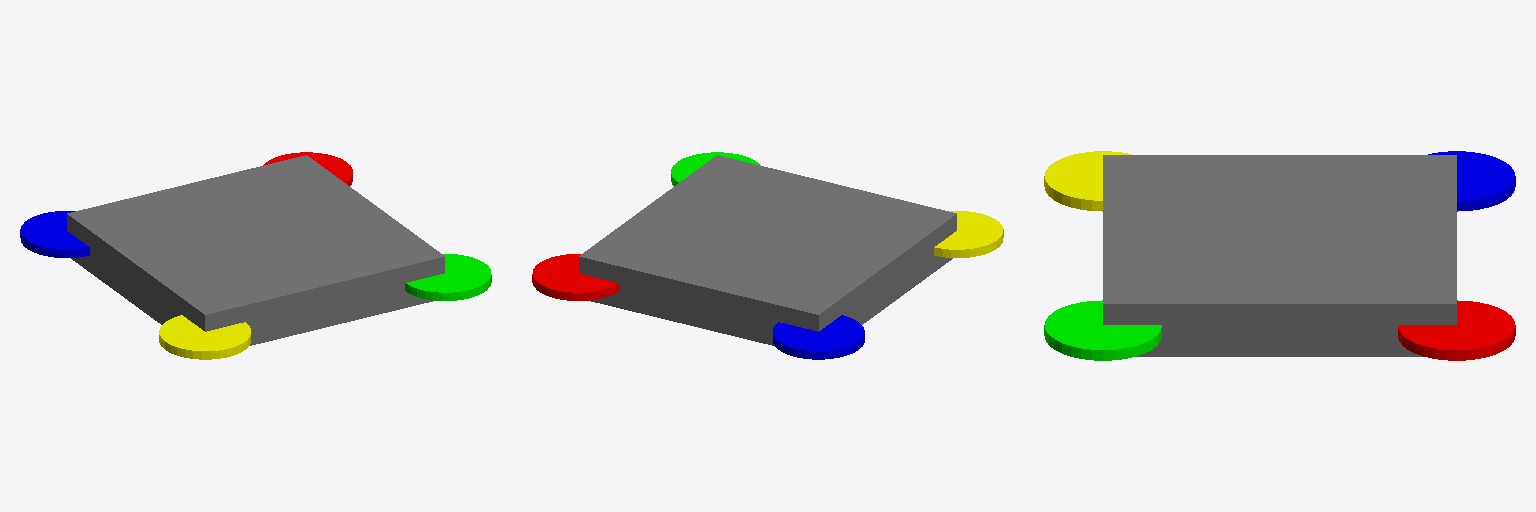
The robot description file, URDF, robot "simple_quadrotor":
<?xml version="1.0" ?>
<robot name="simple_quadrotor">

    <!-- Base link of the quadrotor -->
    <link name="base_link">
        <inertial>
            <origin xyz="0 0 0" />
            <mass value="1.0" />
            <inertia ixx="0.01" iyy="0.01" izz="0.02" ixy="0" ixz="0" iyz="0" />
        </inertial>

        <visual>
            <origin xyz="0 0 0" rpy="0 0 0"/>
            <geometry>
                <box size="0.3 0.3 0.05"/>
            </geometry>
            <material name="gray">
                <color rgba="0.5 0.5 0.5 1"/>
            </material>
        </visual>

        <collision>
            <origin xyz="0 0 0"/>
            <geometry>
                <box size="0.3 0.3 0.05"/>
            </geometry>
        </collision>
    </link>

    <!-- Four propeller links (no motors; visual only) -->
    <link name="prop_front_left">
        <visual>
            <origin xyz="0.15 0.15 0"/>
            <geometry>
                <cylinder radius="0.05" length="0.01"/>
            </geometry>
            <material name="red">
                <color rgba="1 0 0 1"/>
            </material>
        </visual>
    </link>

    <link name="prop_front_right">
        <visual>
            <origin xyz="0.15 -0.15 0"/>
            <geometry>
                <cylinder radius="0.05" length="0.01"/>
            </geometry>
            <material name="green">
                <color rgba="0 1 0 1"/>
            </material>
        </visual>
    </link>

    <link name="prop_back_left">
        <visual>
            <origin xyz="-0.15 0.15 0"/>
            <geometry>
                <cylinder radius="0.05" length="0.01"/>
            </geometry>
            <material name="blue">
                <color rgba="0 0 1 1"/>
            </material>
        </visual>
    </link>

    <link name="prop_back_right">
        <visual>
            <origin xyz="-0.15 -0.15 0"/>
            <geometry>
                <cylinder radius="0.05" length="0.01"/>
            </geometry>
            <material name="yellow">
                <color rgba="1 1 0 1"/>
            </material>
        </visual>
    </link>

    <!-- Fixed joints to attach props to base -->
    <joint name="j_front_left" type="fixed">
        <parent link="base_link"/>
        <child link="prop_front_left"/>
    </joint>

    <joint name="j_front_right" type="fixed">
        <parent link="base_link"/>
        <child link="prop_front_right"/>
    </joint>

    <joint name="j_back_left" type="fixed">
        <parent link="base_link"/>
        <child link="prop_back_left"/>
    </joint>

    <joint name="j_back_right" type="fixed">
        <parent link="base_link"/>
        <child link="prop_back_right"/>
    </joint>

</robot>

--- What the picture shows (computed from the rendered views, not written in the file) ---
Views: 3 orthographic renders of the robot side by side, from view 1: azimuth 30°, elevation 25°; view 2: azimuth 150°, elevation 25°; view 3: azimuth 270°, elevation 25°.
Robot: simple_quadrotor — 5 links, 4 joints (4 fixed); root link base_link; default pose: all joints at 0.
Visible links, largest first — view 1: base_link, prop_back_right, prop_front_right, prop_back_left, prop_front_left; view 2: base_link, prop_back_left, prop_front_left, prop_back_right, prop_front_right; view 3: base_link, prop_front_left, prop_front_right, prop_back_left, prop_back_right.
Link boxes in pixels (bbox=[...]): base_link: bbox=[67, 155, 444, 345]; prop_back_right: bbox=[159, 315, 250, 359]; prop_front_right: bbox=[405, 254, 491, 300]; prop_back_left: bbox=[20, 211, 89, 257]; prop_front_left: bbox=[263, 152, 352, 185]; base_link: bbox=[579, 155, 956, 345]; prop_back_left: bbox=[773, 315, 864, 359]; prop_front_left: bbox=[532, 254, 618, 300]; prop_back_right: bbox=[934, 211, 1003, 257]; prop_front_right: bbox=[671, 152, 760, 185]; base_link: bbox=[1103, 155, 1456, 356]; prop_front_left: bbox=[1398, 300, 1515, 360]; prop_front_right: bbox=[1044, 300, 1161, 360]; prop_back_left: bbox=[1428, 151, 1515, 211]; prop_back_right: bbox=[1044, 151, 1131, 211].
Size in the robot's own frame: 0.4 by 0.4 by 0.05 metres.
Geometry: primitives only (box / cylinder / sphere), no mesh files.